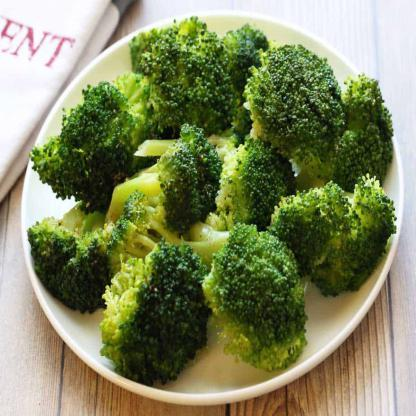broccoli: (26, 12, 400, 386)
